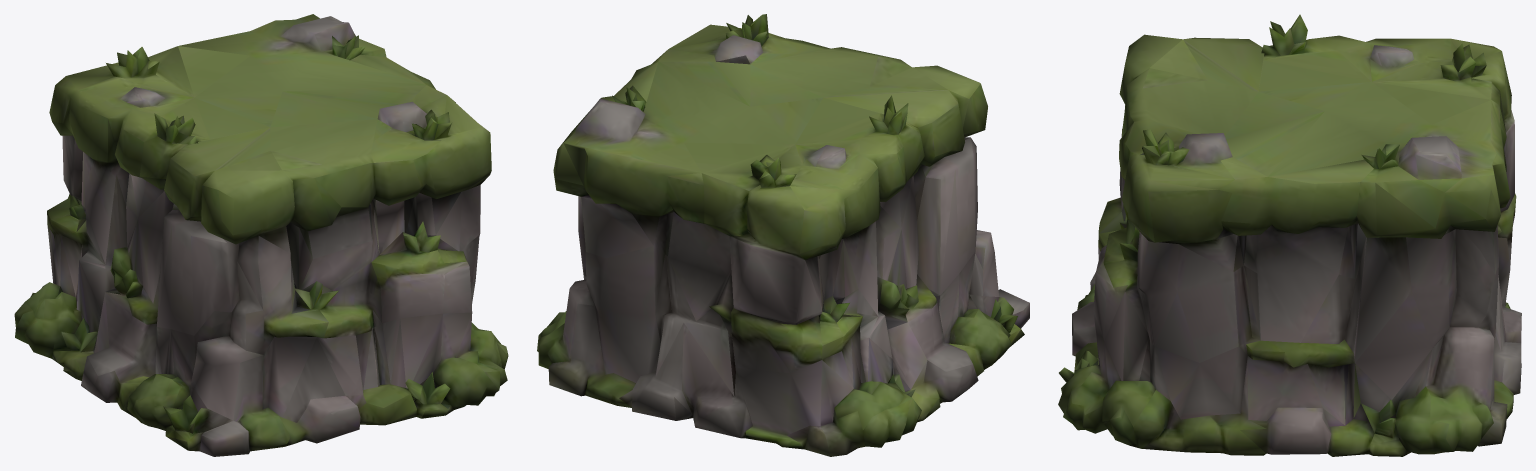
The model's file is cherry.glb.
3 renders of one model, left to right at view 1: azimuth 30°, elevation 25°; view 2: azimuth 150°, elevation 25°; view 3: azimuth 270°, elevation 25°, orthographic. The views are drawn at different scales.
Visible parts, largest first — view 1: tripo_node_71525fa5-18bb-46de-9199-6fa4250ca209; view 2: tripo_node_71525fa5-18bb-46de-9199-6fa4250ca209; view 3: tripo_node_71525fa5-18bb-46de-9199-6fa4250ca209.
Part boxes in pixels (box(x1,y1,x2,y2)): tripo_node_71525fa5-18bb-46de-9199-6fa4250ca209: box(14, 14, 508, 456); tripo_node_71525fa5-18bb-46de-9199-6fa4250ca209: box(537, 14, 1029, 456); tripo_node_71525fa5-18bb-46de-9199-6fa4250ca209: box(1058, 14, 1521, 456).
Size of the model in its own units: 0.9788 by 0.6879 by 0.9763.
Materials: 1 (1 with a texture image).
